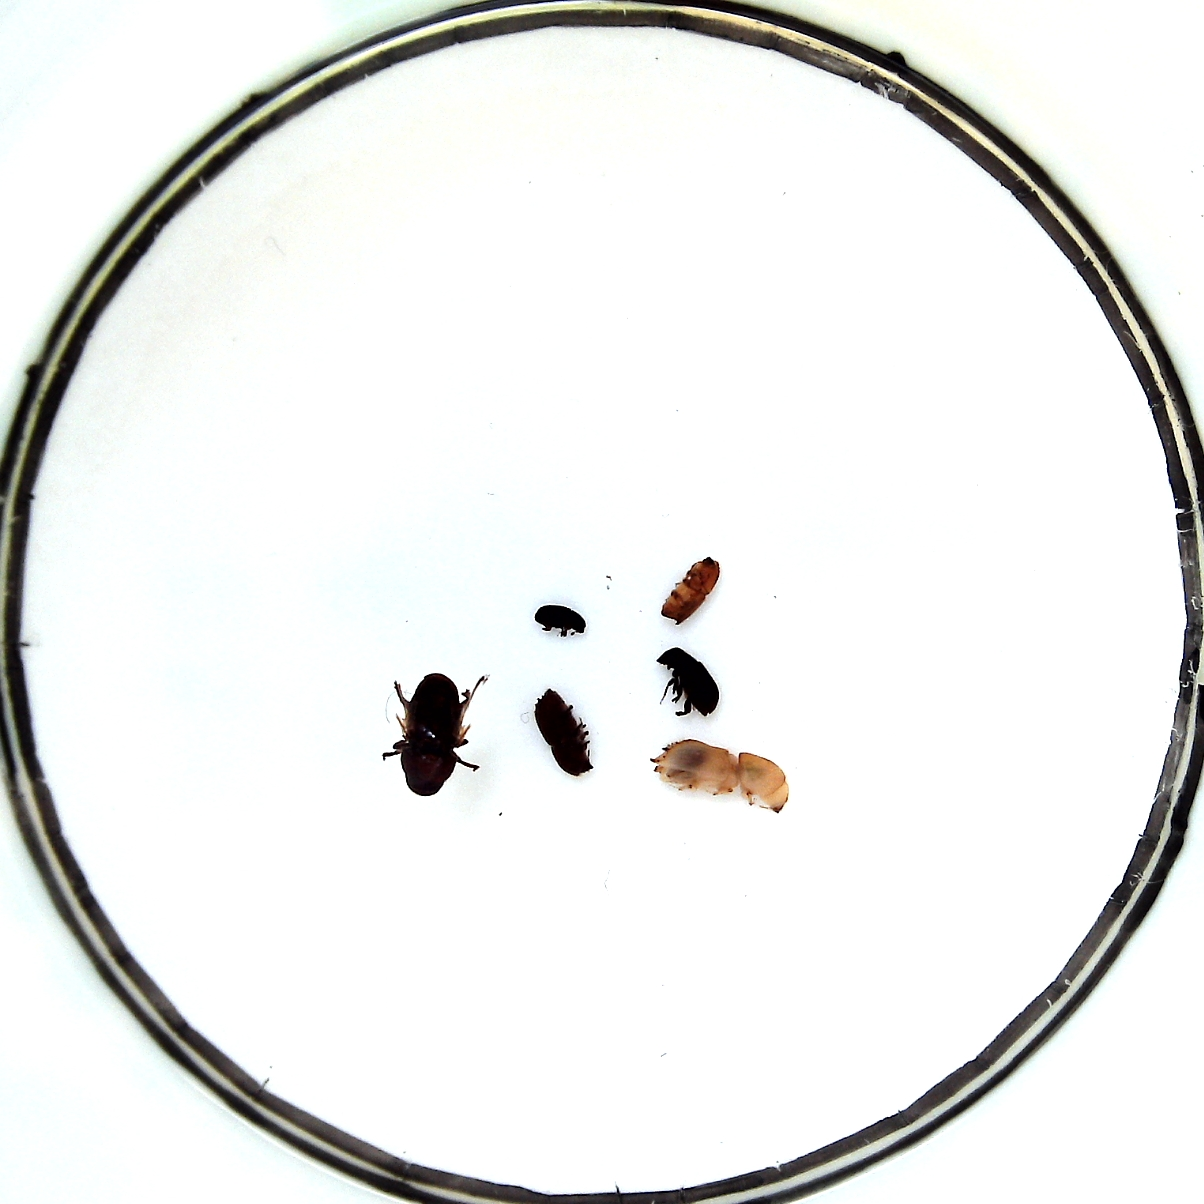Boerner: (649, 741, 789, 814)
Leconte: (397, 673, 463, 796)
acuminatus: (534, 605, 585, 634)
armandi: (656, 647, 718, 717)
linnaeus: (534, 688, 593, 778), (662, 556, 719, 625)
